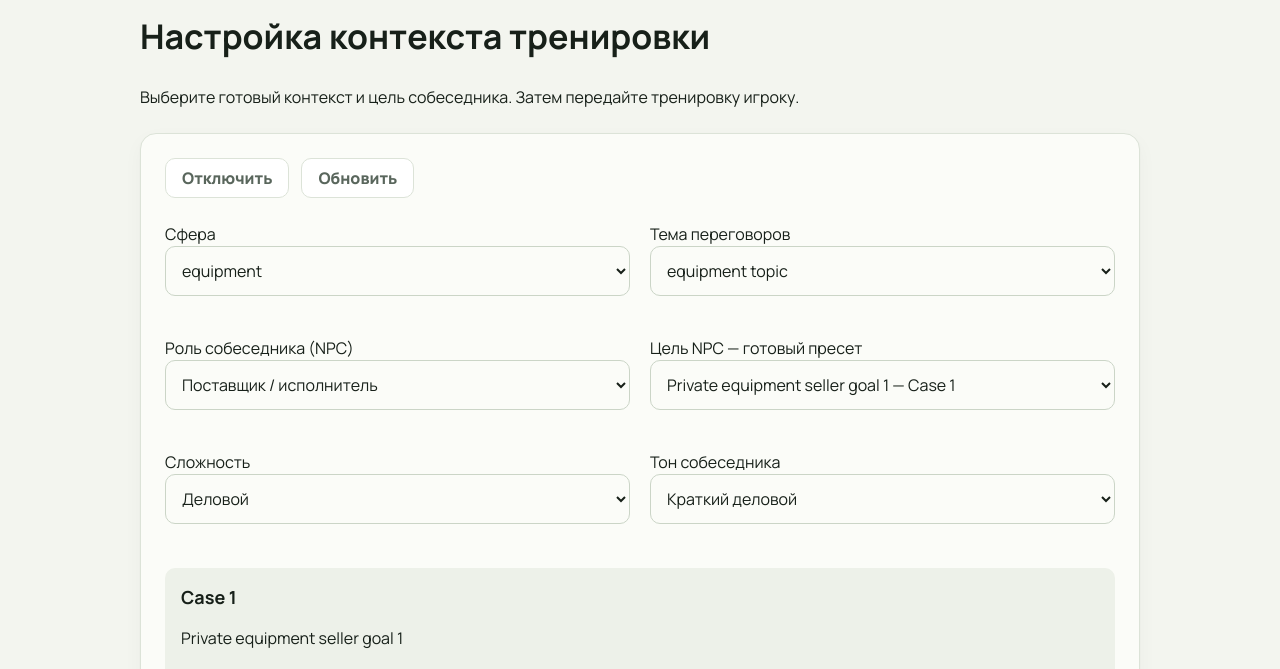
Test: administrator context setup › selects a real bundle and clears privileged data before the player handoff
Select "software" in the dropdown labelled "Сфера" at (398, 271), box [165,246,630,296]
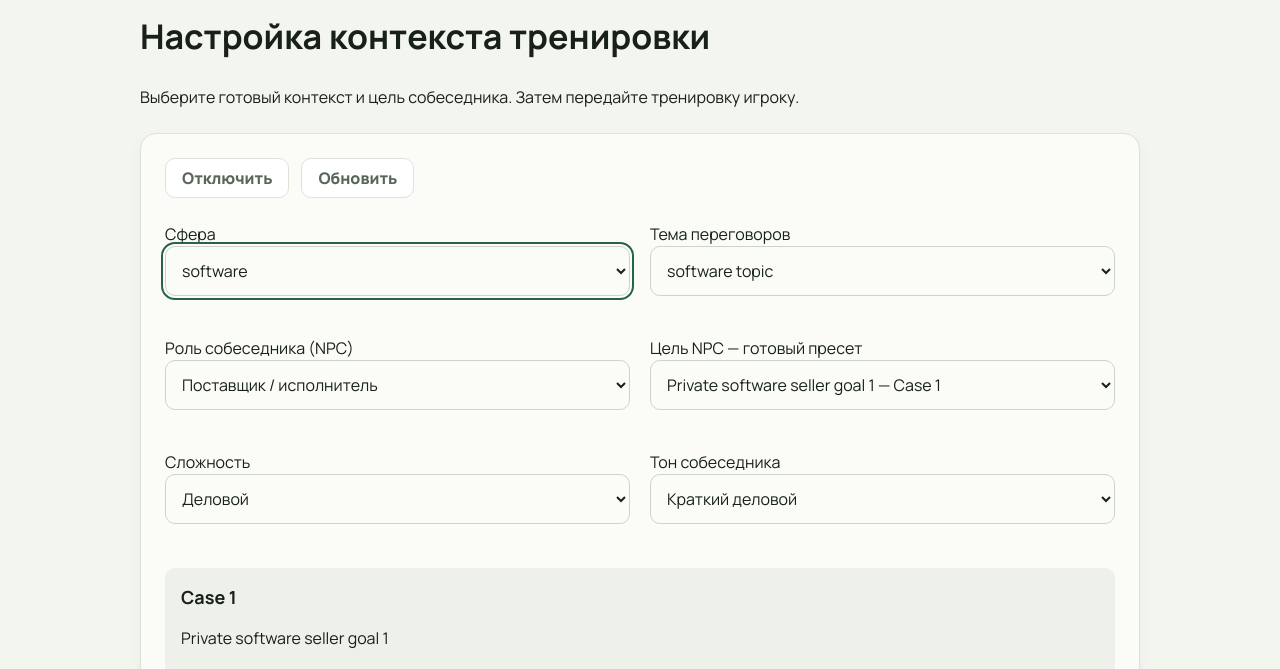
Select "Покупатель / заказчик" in the dropdown labelled "Роль собеседника (NPC)" at (398, 385), box [165,360,630,410]
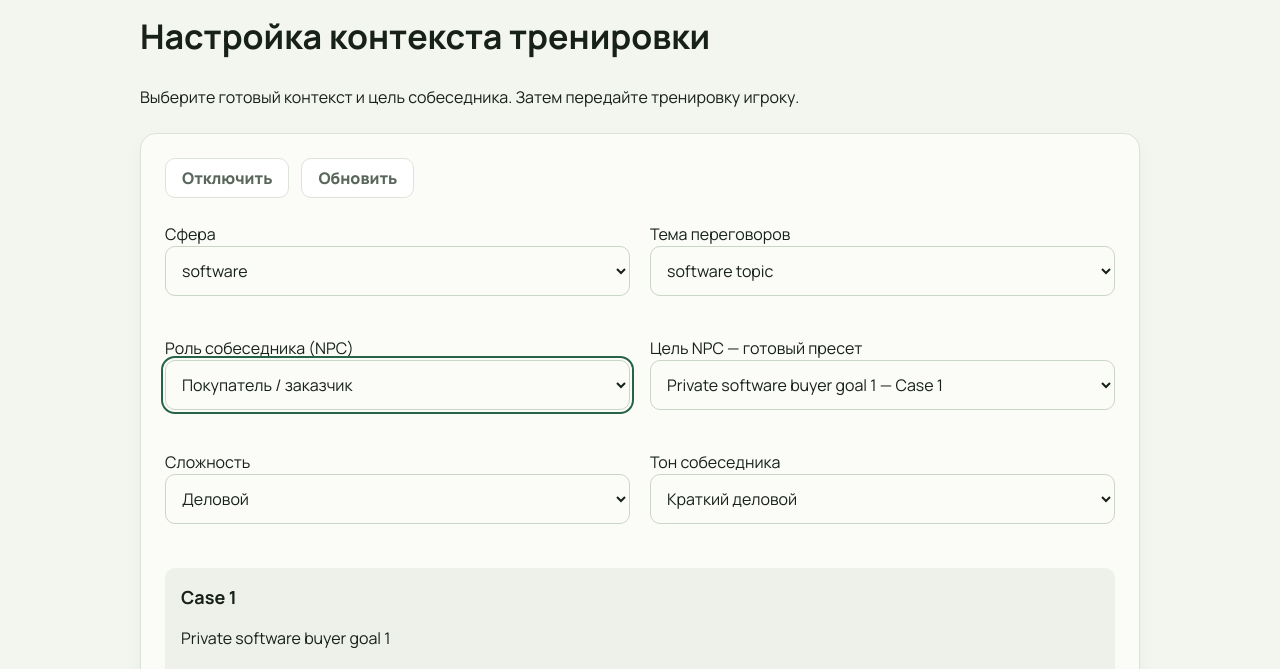
Select "Private software buyer goal 2 — Case 2" in the dropdown labelled "Цель NPC — готовый пресет" at (882, 385), box [650,360,1115,410]
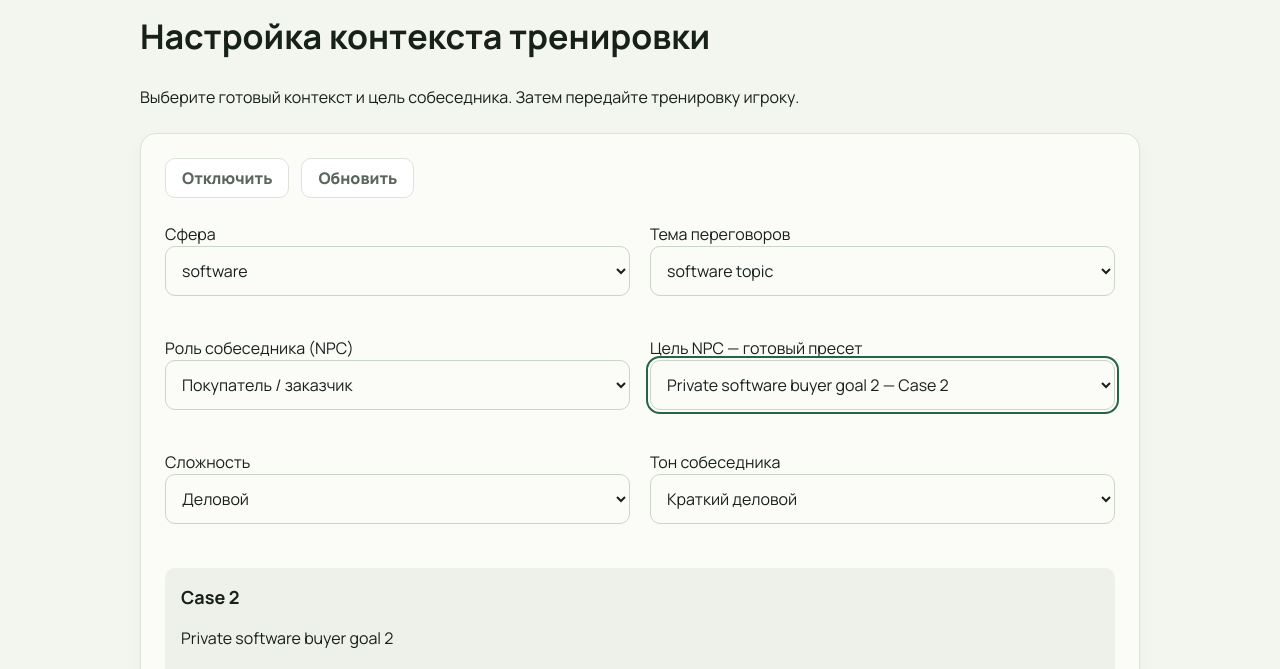
Select "Эксперт" in the dropdown labelled "Сложность" at (398, 499), box [165,474,630,524]
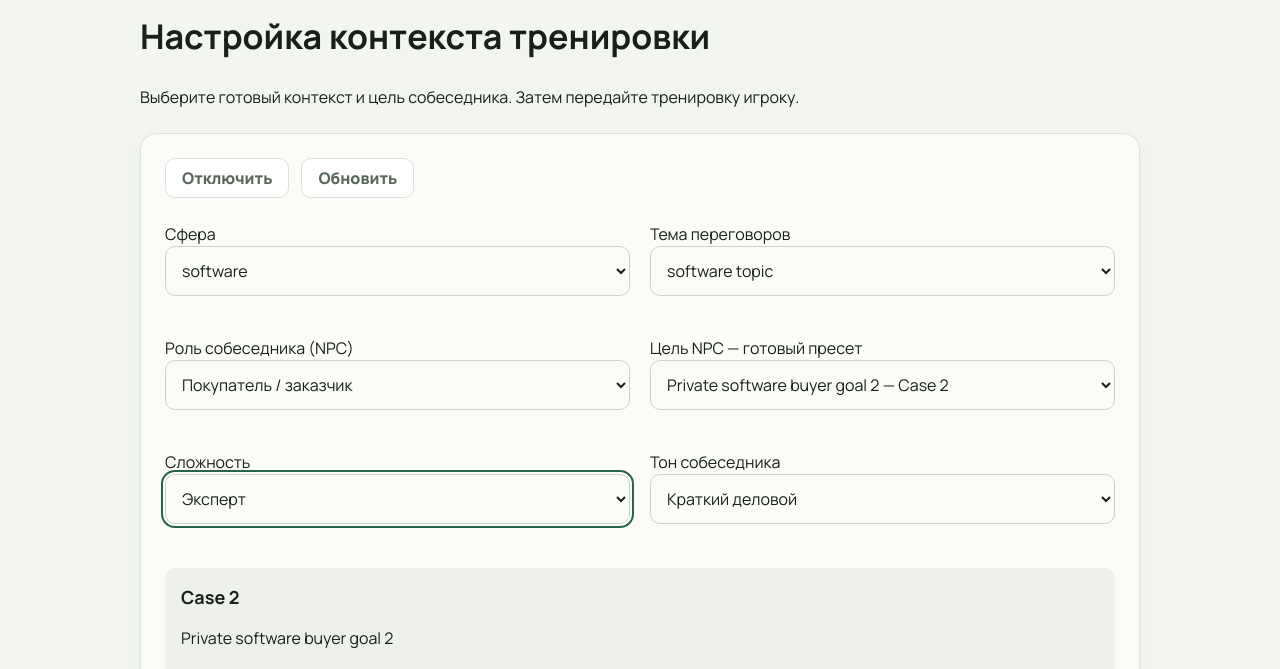
Select "Доброжелательный" in the dropdown labelled "Тон собеседника" at (882, 499), box [650,474,1115,524]
(page scrolled)
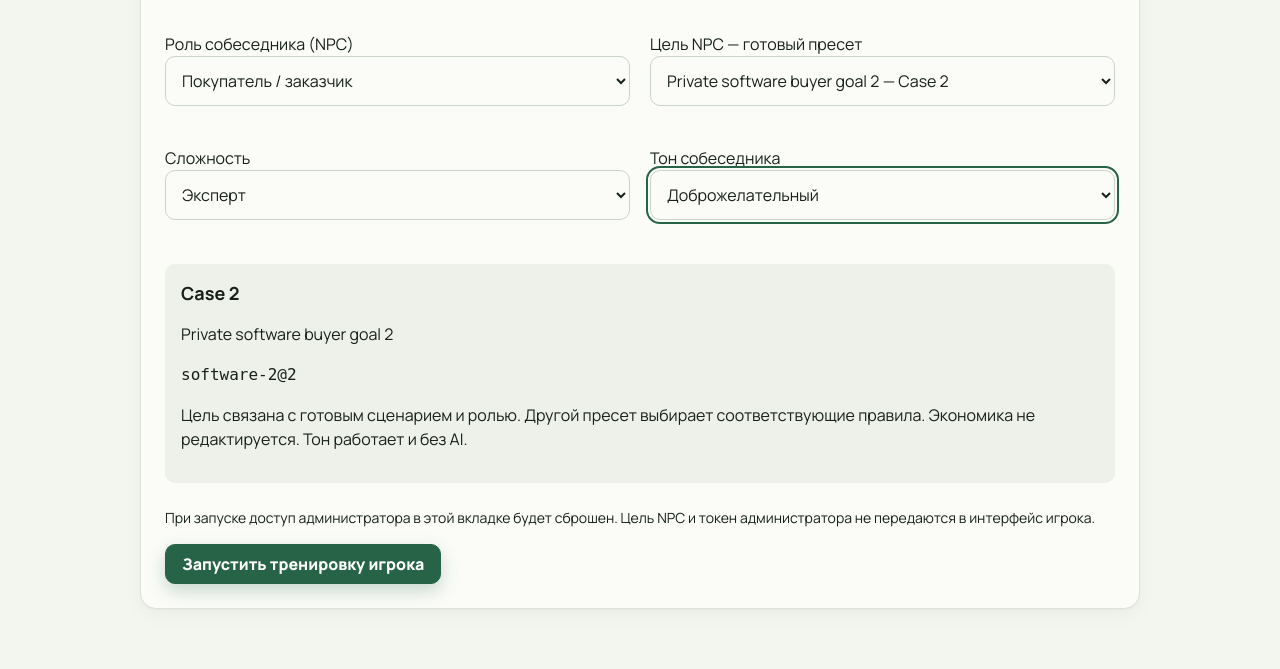
Click the button "Запустить тренировку игрока" at (303, 564), box [165,544,441,584]
(page scrolled)
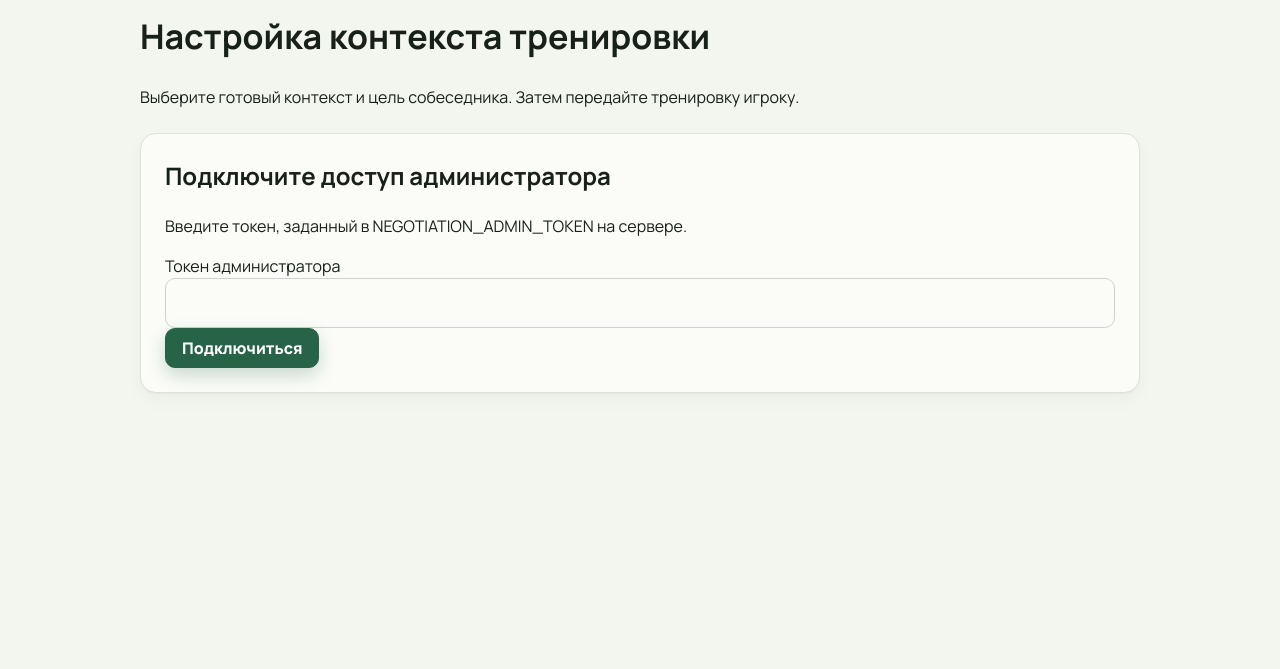
Check: the text "Private software buyer goal 2" is gone
